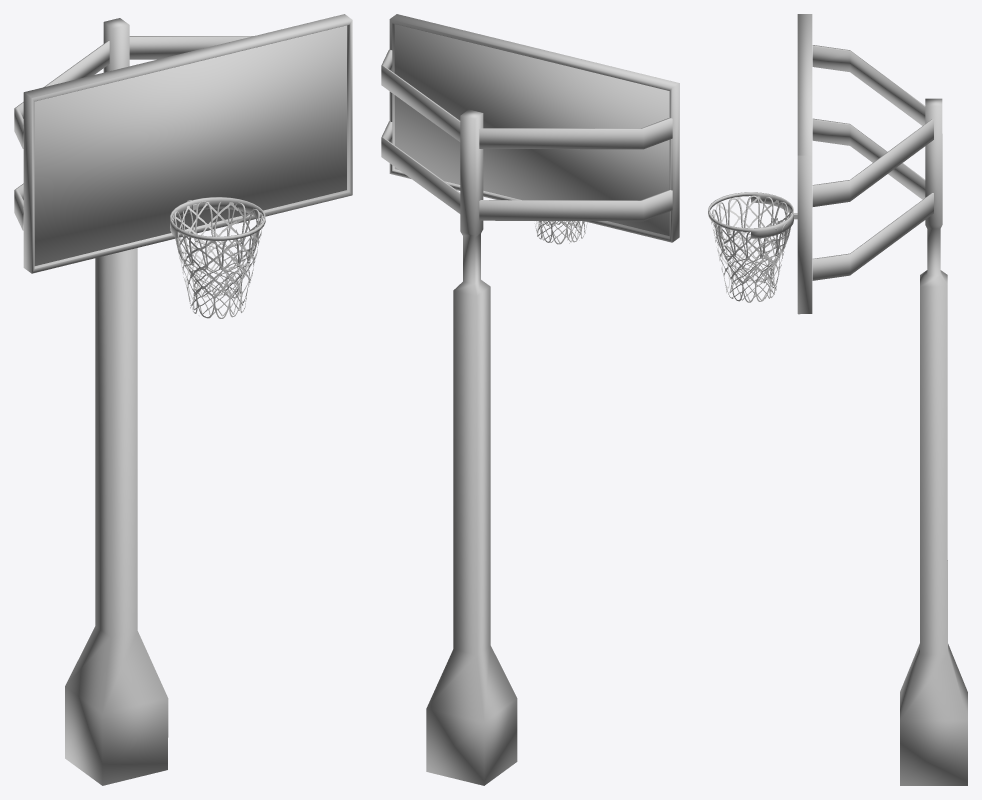
The model's file is BasketballPost.fbx.
3 renders of one model, left to right at view 1: azimuth 30°, elevation 25°; view 2: azimuth 150°, elevation 25°; view 3: azimuth 270°, elevation 25°, orthographic. The views are drawn at different scales.
Parts seen in each view (by area): view 1: BasketBallPost, Net, NetLD; view 2: BasketBallPost; view 3: BasketBallPost, Net, NetLD.
Boxes of the visible parts, x1,y1,x2,y2 form: BasketBallPost: (14, 14, 352, 785); Net: (172, 201, 262, 316); NetLD: (172, 202, 263, 318); BasketBallPost: (381, 14, 679, 785); BasketBallPost: (708, 14, 967, 785); Net: (712, 195, 793, 301); NetLD: (710, 196, 791, 302).
Bounding box in the file's own units: 203 × 459 × 157.
